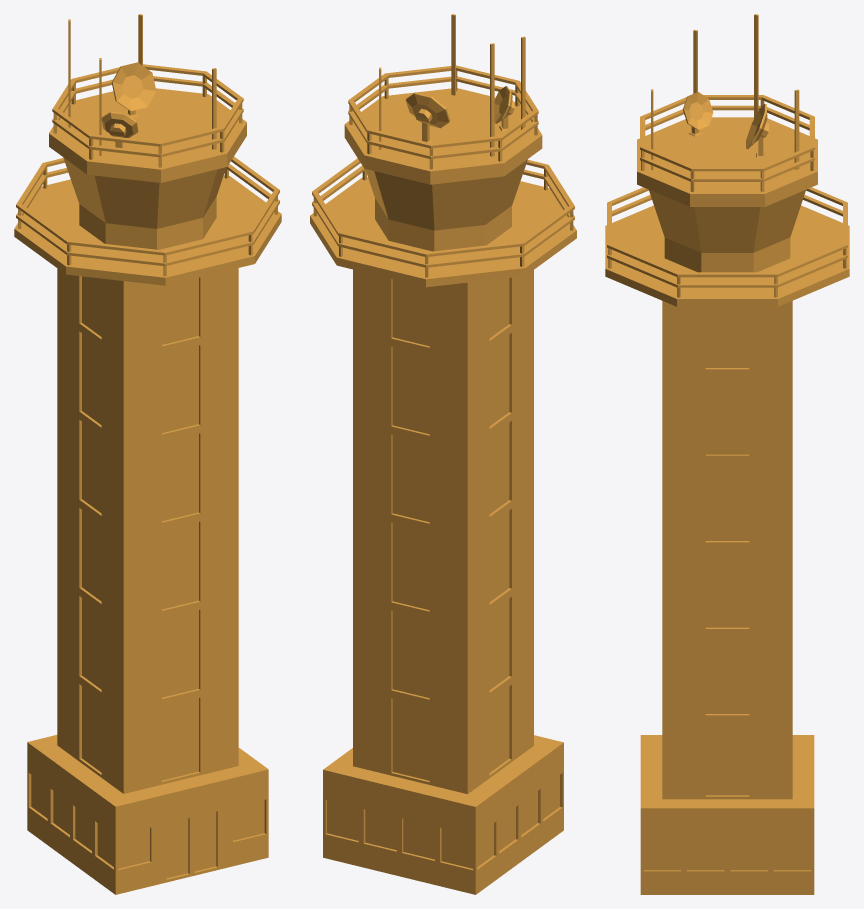
File: control-tower.fbx
The picture shows the model from 3 angles, left to right: view 1: azimuth 30°, elevation 25°; view 2: azimuth 150°, elevation 25°; view 3: azimuth 270°, elevation 25°; orthographic projection.
Parts seen in each view (by area): view 1: control-tower; view 2: control-tower; view 3: control-tower.
Part boxes in pixels (bbox=[...]): control-tower: bbox=[14, 14, 281, 894]; control-tower: bbox=[310, 14, 576, 894]; control-tower: bbox=[605, 14, 849, 894].
Size of the model in its own units: 8.45 by 31 by 8.45.
